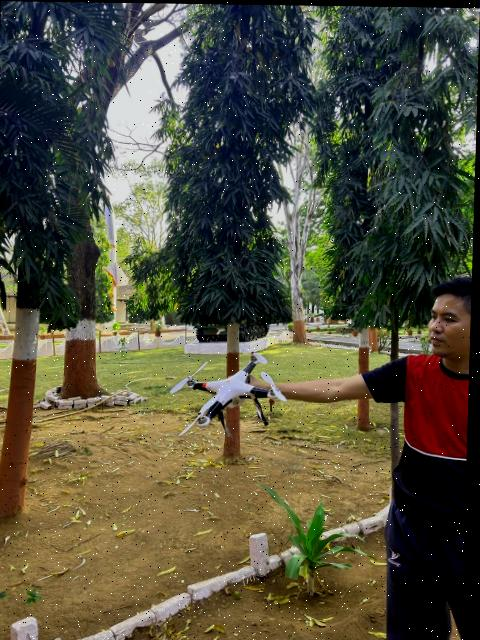drone: (150, 330, 293, 457)
